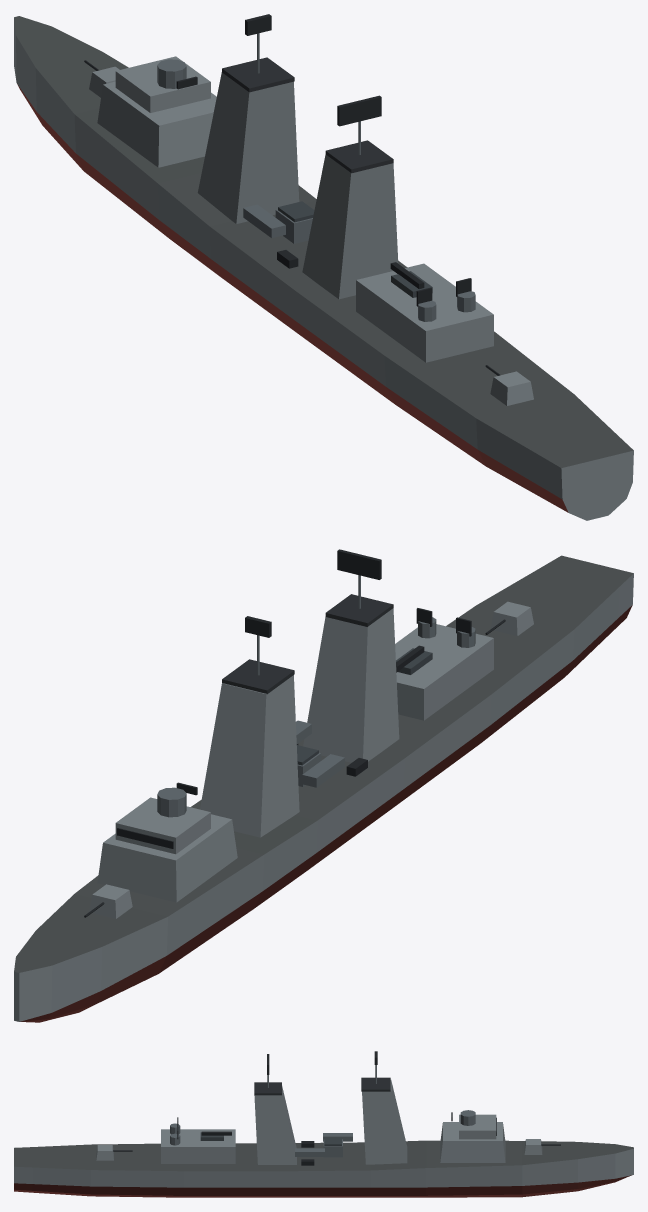
Rendered from adams.glb.
The picture shows the model from 3 angles, top to bottom: view 1: azimuth 30°, elevation 25°; view 2: azimuth 150°, elevation 25°; view 3: azimuth 270°, elevation 25°; orthographic projection. The views are drawn at different scales.
Parts seen in each view (by area): view 1: Hull, Fwd mack, Aft mack, Aft deckhouse, Bridge, Pilothouse, Fwd mack cap, Aft mack cap, Mk42 aft house, SPS-40, Whaleboat, Mk68 director; view 2: Hull, Fwd mack, Aft mack, Bridge, Aft deckhouse, Pilothouse, Fwd mack cap, Aft mack cap, Mk42 fwd house, Mk42 aft house, SPS-40, Whaleboat (+1 smaller); view 3: Hull, Fwd mack, Aft mack, Aft deckhouse, Bridge, Pilothouse, Fwd mack cap, Aft mack cap, Mk42 fwd house, Mk42 aft house, Whaleboat.001, ASROC (+1 smaller).
Boxes of the visible parts, x1=… form: Hull: x1=14, y1=16, x2=633, y2=520; Fwd mack: x1=197, y1=72, x2=299, y2=223; Aft mack: x1=302, y1=154, x2=398, y2=299; Aft deckhouse: x1=356, y1=263, x2=493, y2=362; Bridge: x1=97, y1=81, x2=216, y2=167; Pilothouse: x1=115, y1=56, x2=210, y2=112; Fwd mack cap: x1=222, y1=57, x2=294, y2=92; Aft mack cap: x1=325, y1=140, x2=393, y2=173; Mk42 aft house: x1=490, y1=371, x2=533, y2=405; SPS-40: x1=337, y1=95, x2=381, y2=126; Whaleboat: x1=243, y1=204, x2=285, y2=238; Mk68 director: x1=157, y1=59, x2=186, y2=88; Hull: x1=14, y1=555, x2=633, y2=1022; Fwd mack: x1=200, y1=675, x2=299, y2=837; Aft mack: x1=303, y1=608, x2=399, y2=762; Bridge: x1=97, y1=814, x2=237, y2=902; Aft deckhouse: x1=395, y1=624, x2=493, y2=720; Pilothouse: x1=115, y1=797, x2=210, y2=854; Fwd mack cap: x1=222, y1=659, x2=294, y2=694; Aft mack cap: x1=325, y1=594, x2=393, y2=626; Mk42 fwd house: x1=89, y1=884, x2=132, y2=918; Mk42 aft house: x1=490, y1=601, x2=533, y2=636; SPS-40: x1=337, y1=549, x2=381, y2=579; Whaleboat: x1=302, y1=754, x2=344, y2=787; Hull: x1=14, y1=1140, x2=633, y2=1197; Fwd mack: x1=362, y1=1080, x2=407, y2=1164; Aft mack: x1=254, y1=1086, x2=296, y2=1164; Aft deckhouse: x1=161, y1=1129, x2=235, y2=1163; Bridge: x1=440, y1=1122, x2=505, y2=1162; Pilothouse: x1=459, y1=1114, x2=496, y2=1139; Fwd mack cap: x1=361, y1=1077, x2=390, y2=1091; Aft mack cap: x1=254, y1=1082, x2=281, y2=1095; Mk42 fwd house: x1=524, y1=1139, x2=542, y2=1154; Mk42 aft house: x1=96, y1=1145, x2=113, y2=1160; Whaleboat.001: x1=295, y1=1148, x2=324, y2=1156; ASROC: x1=323, y1=1139, x2=342, y2=1157.
Size of the model in its own units: 14.3 by 33 by 133.
